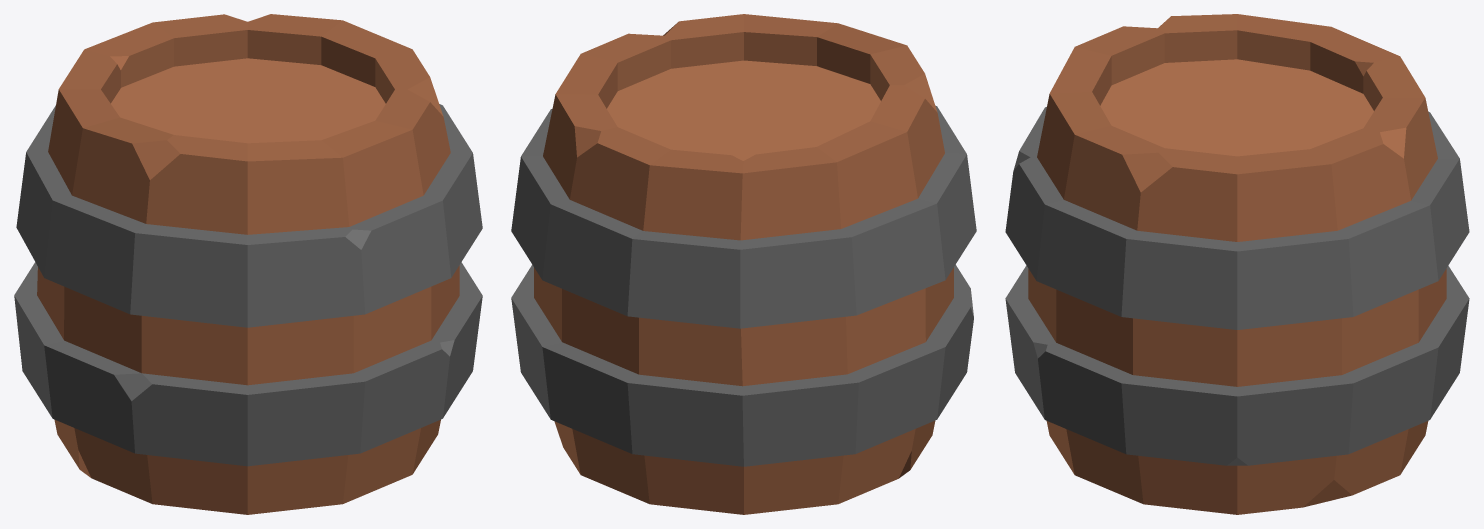
The model's file is barrel_damaged.obj.
3 views of the same model, side by side, from view 1: azimuth 30°, elevation 25°; view 2: azimuth 150°, elevation 25°; view 3: azimuth 270°, elevation 25° (orthographic).
Visible parts, largest first — view 1: barrel_damaged; view 2: barrel_damaged; view 3: barrel_damaged.
Boxes of the visible parts, x1,y1,x2,y2 form: barrel_damaged: (14,14,482,514); barrel_damaged: (511,14,976,514); barrel_damaged: (1005,14,1469,514).
Bounding box in the file's own units: 0.4007 × 0.3324 × 0.4007.
